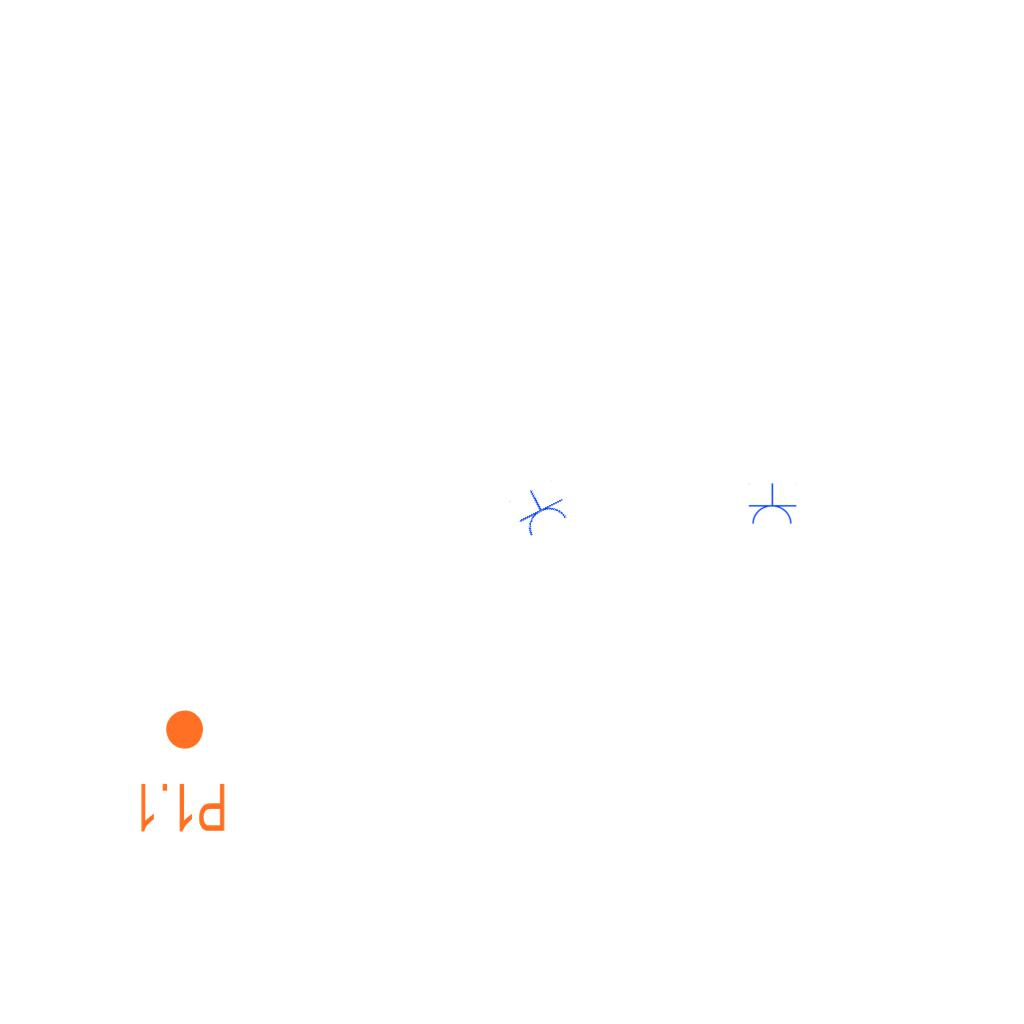Downlight_LED_Einbauleuchten_Flur: (135, 707, 228, 835)
Schukosteckdose_einfach: (507, 478, 573, 541), (747, 483, 797, 526)
